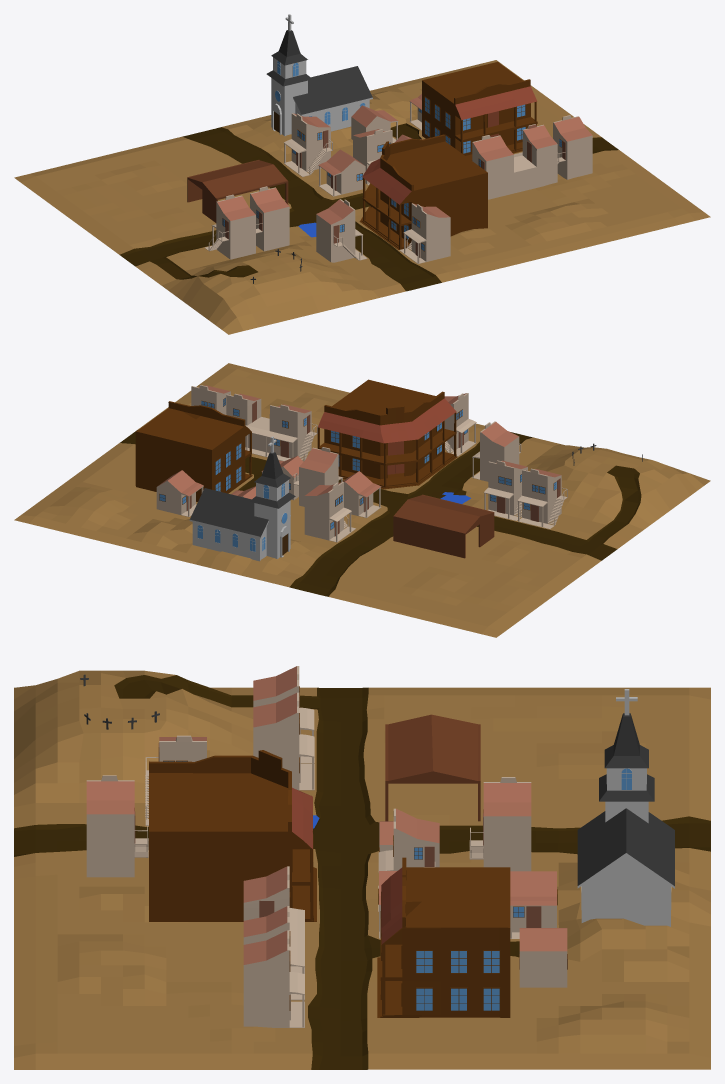
Rendered from town.dae.
3 views of the same model, one above another, from view 1: azimuth 30°, elevation 25°; view 2: azimuth 150°, elevation 25°; view 3: azimuth 270°, elevation 25° (orthographic). The views are drawn at different scales.
Parts seen in each view (by area): view 1: ground, saloon, hotel, church, post_office, stable, house, house.002, house.003, house.005, house.004, house.001 (+3 smaller); view 2: ground, saloon, hotel, church, stable, post_office, house.005, house, house.001, house.002, house.007, cottage.002 (+4 smaller); view 3: ground, saloon, hotel, church, stable, house.003, house.004, house.005, post_office, house.001, cottage.002, cottage.003 (+3 smaller).
Part boxes in pixels (x1,y1,x2,y2): ground: (14, 60, 710, 334); saloon: (359, 134, 487, 249); hotel: (422, 62, 537, 160); church: (266, 14, 372, 135); post_office: (472, 124, 557, 199); stable: (187, 160, 288, 222); house: (205, 194, 255, 259); house.002: (316, 199, 367, 262); house.003: (399, 203, 450, 263); house.005: (283, 113, 332, 176); house.004: (553, 115, 592, 179); house.001: (250, 186, 289, 251); ground: (14, 363, 710, 637); saloon: (317, 379, 457, 489); hotel: (135, 401, 252, 501); church: (189, 436, 295, 561); stable: (393, 494, 494, 558); post_office: (226, 393, 317, 461); house.005: (304, 481, 355, 542); house: (517, 468, 567, 529); house.001: (483, 460, 527, 520); house.002: (472, 421, 521, 481); house.007: (293, 447, 343, 506); cottage.002: (156, 470, 203, 516); ground: (14, 670, 710, 1069); saloon: (149, 750, 316, 921); hotel: (377, 857, 510, 1017); church: (577, 689, 674, 926); stable: (385, 714, 480, 821); house.003: (86, 775, 148, 877); house.004: (243, 930, 304, 1027); house.005: (469, 777, 531, 871); post_office: (243, 866, 304, 1000); house.001: (253, 692, 314, 790); cottage.002: (519, 928, 567, 987); cottage.003: (510, 871, 557, 938).
Size of the model in its own units: 48.51 by 37.39 by 11.62.
